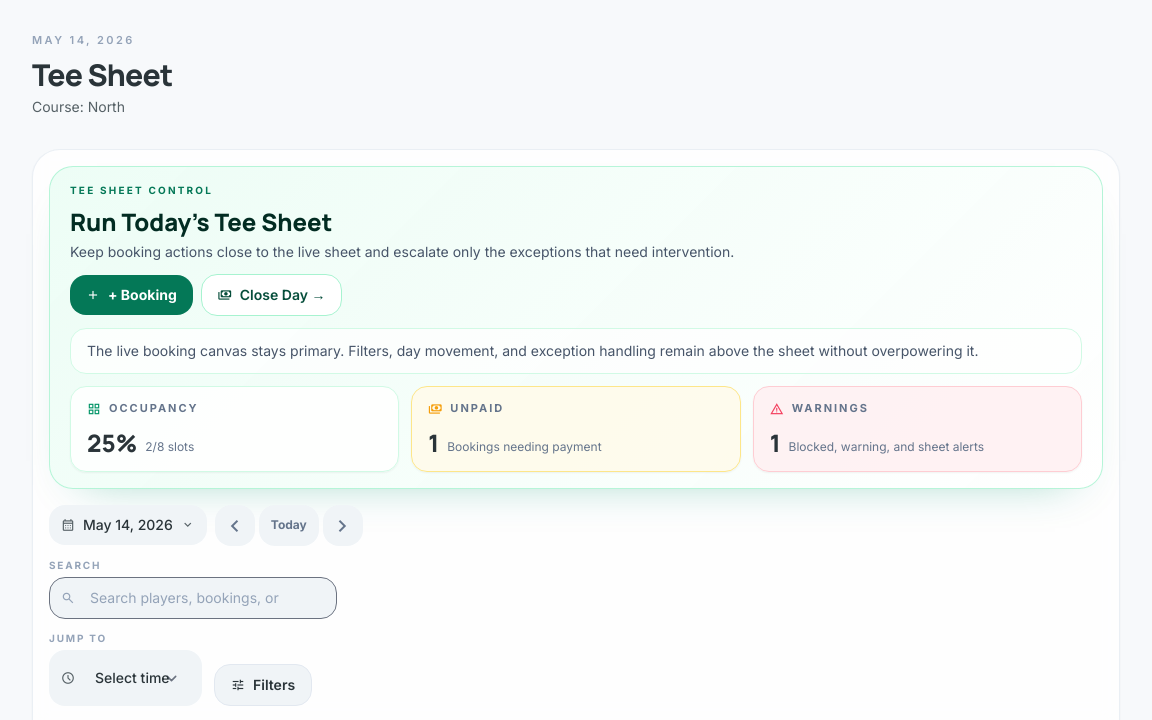
Scenario: AdminGolfTeeSheetPage › opens the existing create drawer from the cockpit primary action
Click the button "+ Booking". click: (131, 294)
box: [70, 274, 193, 314]
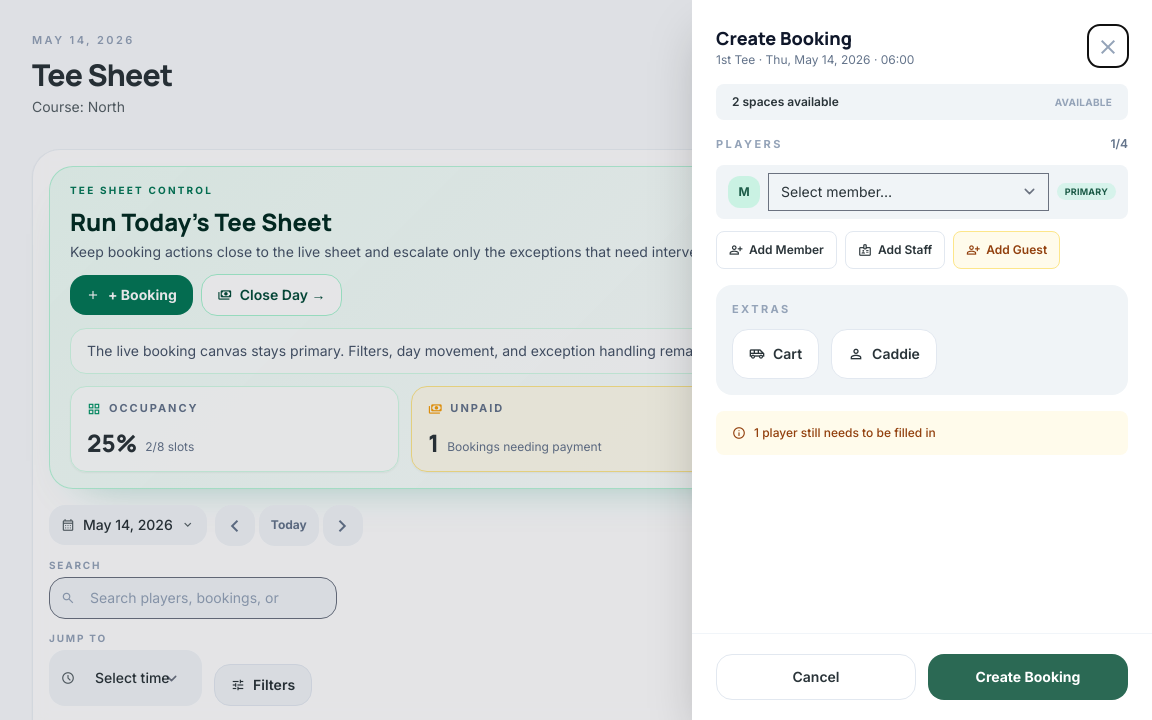
Result: the heading "Create Booking" is shown at [716, 26, 852, 50]
